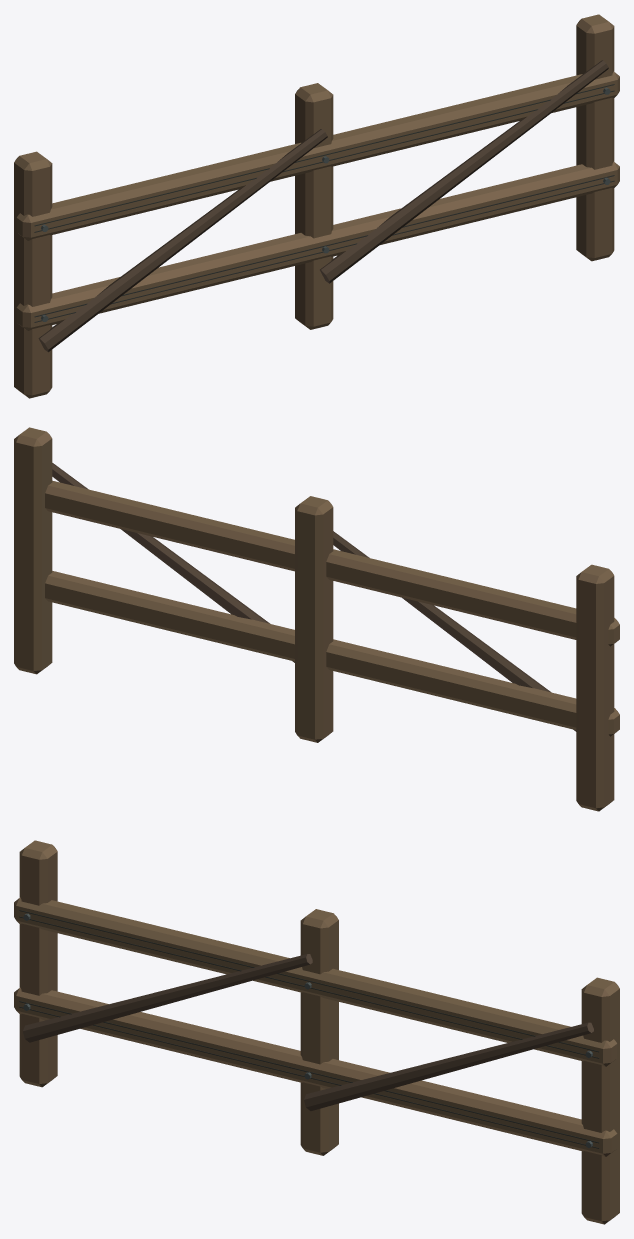
Rendered from field_fence.glb.
3 views of the same model, one above another, from view 1: azimuth 30°, elevation 25°; view 2: azimuth 150°, elevation 25°; view 3: azimuth 330°, elevation 25° (orthographic).
Parts seen in each view (by area): view 1: field_fence; view 2: field_fence; view 3: field_fence.
Boxes of the visible parts, bbox=[...] form: field_fence: bbox=[14, 14, 619, 398]; field_fence: bbox=[14, 427, 619, 811]; field_fence: bbox=[14, 840, 619, 1224].
Bounding box in the file's own units: 3.4 × 1.28 × 0.2239.
